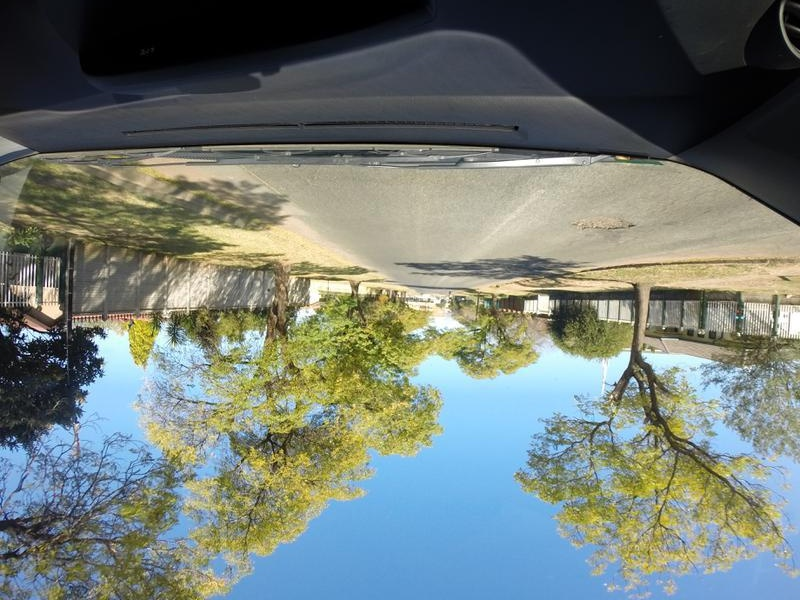pothole: (569, 208, 648, 240)
